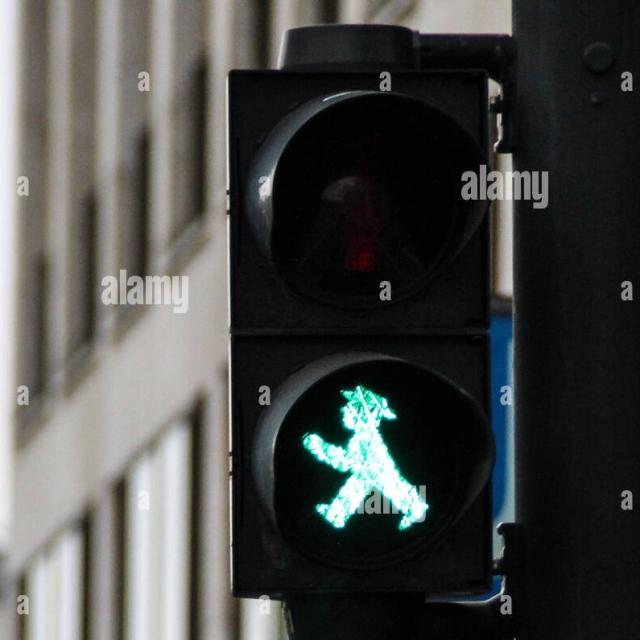green_light: (292, 370, 436, 538)
